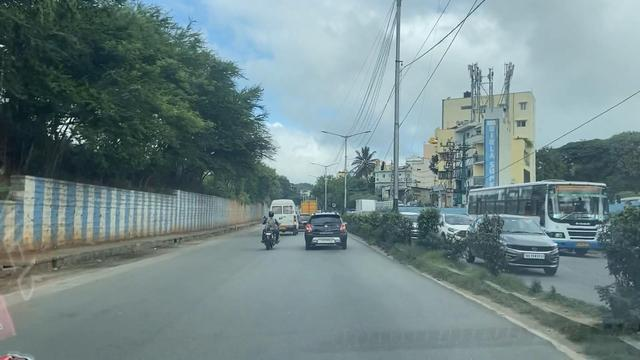HMV: (270, 200, 297, 234)
LMV: (302, 212, 347, 251), (263, 209, 278, 252)
